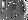person: (22, 1, 28, 16), (4, 1, 11, 10), (15, 3, 20, 14)
